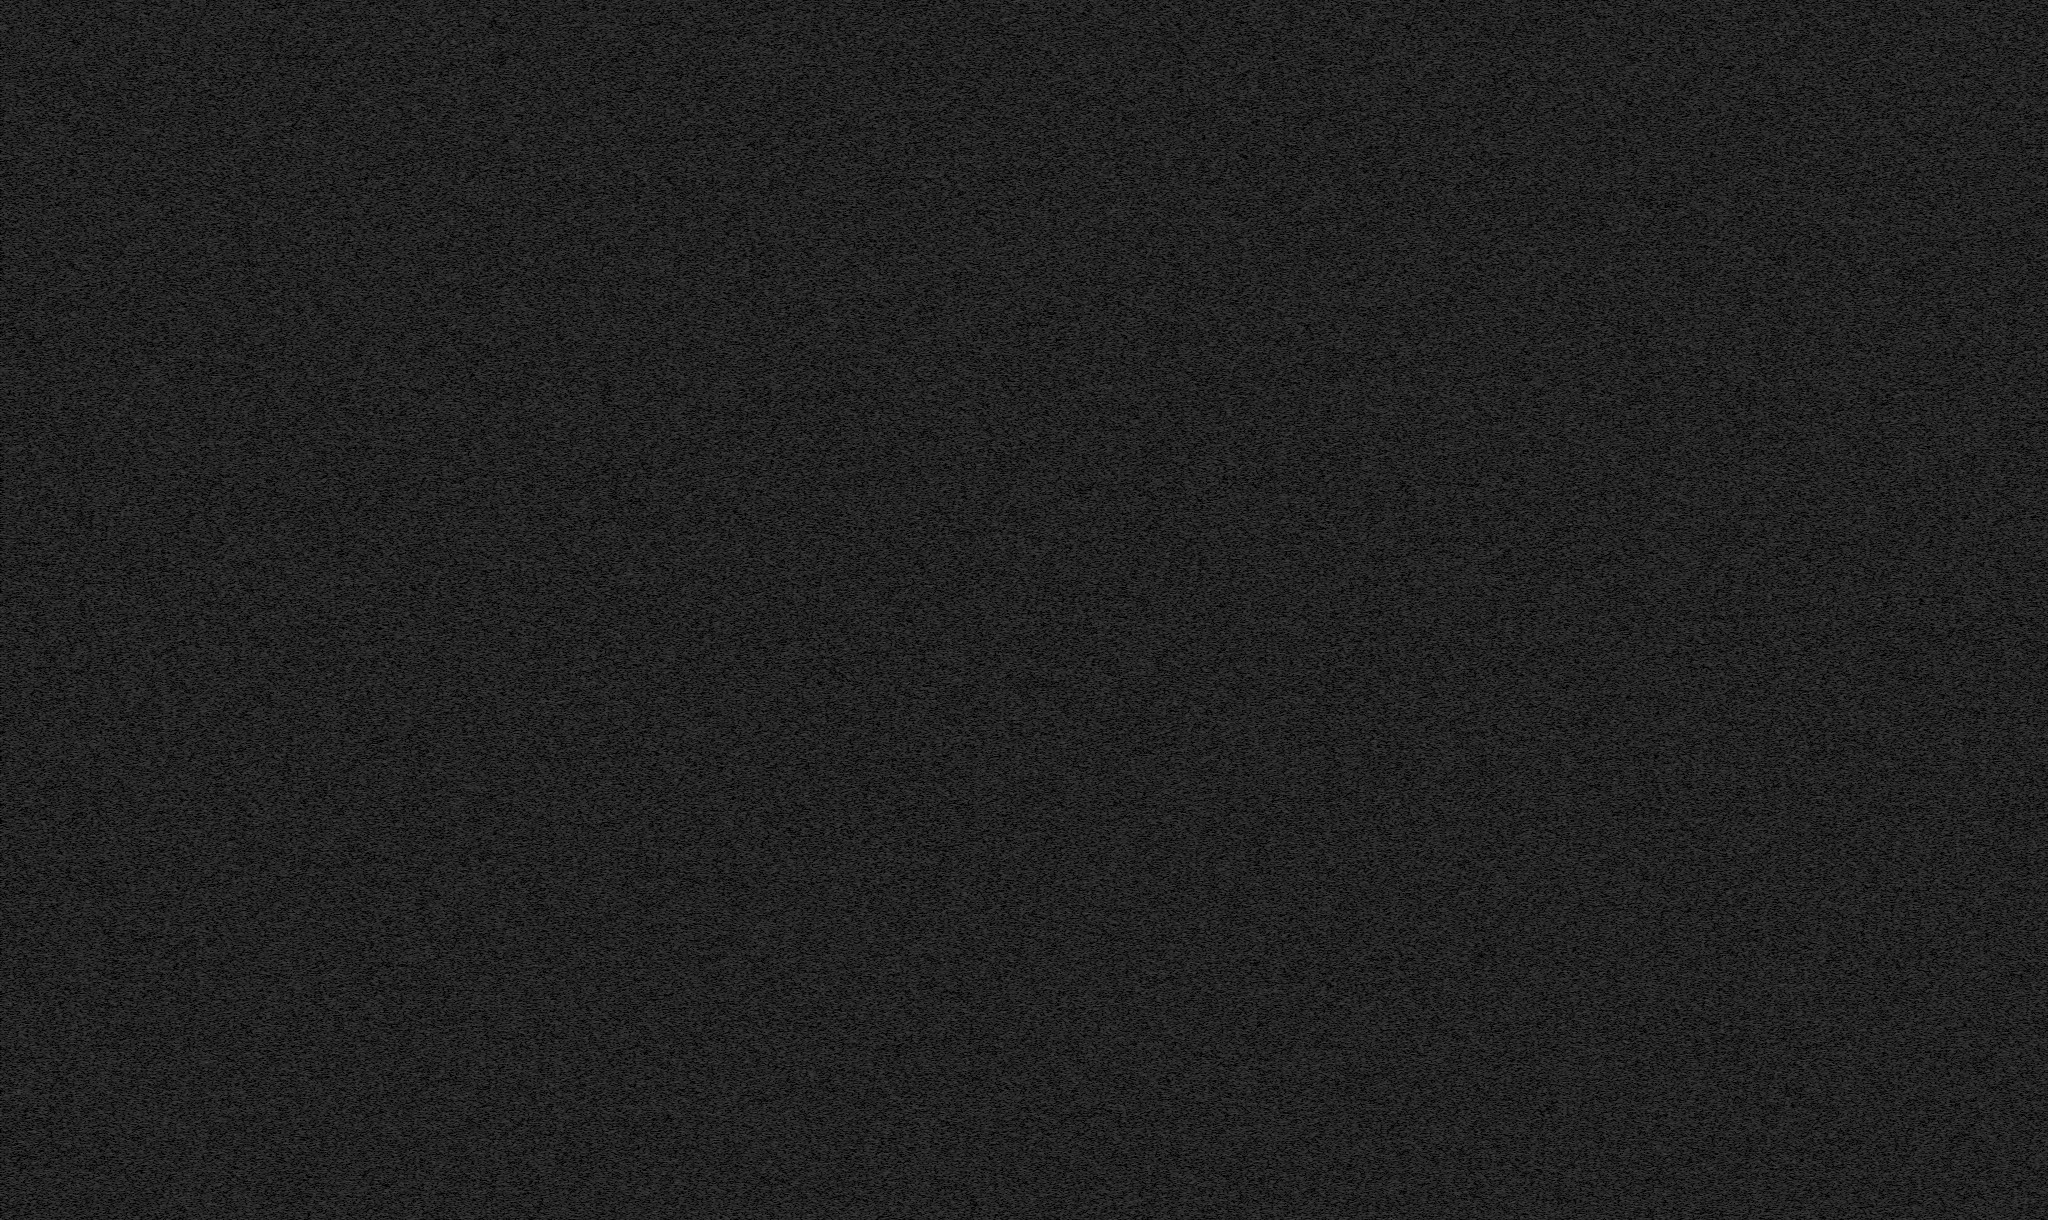wv_am: (395, 0, 408, 1220)
wv_cw: (1316, 0, 1326, 1220)
wv_lsb: (940, 391, 946, 572), (940, 166, 946, 296), (941, 7, 946, 76), (941, 1158, 946, 1220), (941, 131, 946, 163), (941, 577, 946, 606), (941, 325, 946, 350), (941, 870, 946, 890), (941, 892, 946, 908), (941, 723, 946, 738), (941, 911, 946, 925), (941, 301, 946, 314), (941, 706, 946, 717), (941, 369, 946, 381), (941, 314, 946, 325), (943, 850, 946, 866), (941, 688, 946, 699), (941, 351, 946, 362), (941, 931, 946, 941), (943, 622, 946, 632), (943, 834, 946, 844), (943, 745, 946, 754), (943, 665, 946, 672), (943, 636, 946, 643), (943, 822, 946, 829), (943, 381, 946, 386), (943, 651, 946, 655), (943, 363, 946, 367), (943, 296, 946, 301), (943, 93, 946, 97), (943, 684, 946, 687), (943, 1149, 946, 1152)
wv_wbfm: (521, 0, 671, 1220)
